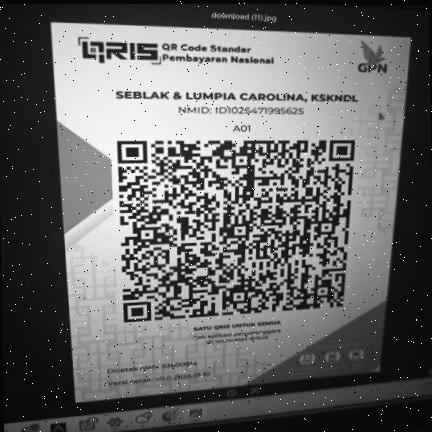Cara Pakai QRIS: (275, 334, 380, 381)
Cek Aplikasi Penyelenggara: (189, 327, 286, 349)
Dicetak Oleh: (99, 356, 205, 377)
Logo GPN: (346, 37, 400, 80)
Logo dan deskripsi QRIS: (69, 29, 284, 74)
Nama Merchant: (107, 88, 366, 104)
National Merchant ID: (168, 103, 312, 117)
QR Code: (109, 136, 362, 329)
Slogan: (189, 316, 286, 333)
Terminal ID: (226, 122, 258, 134)
Versi Cetak: (100, 367, 216, 389)
